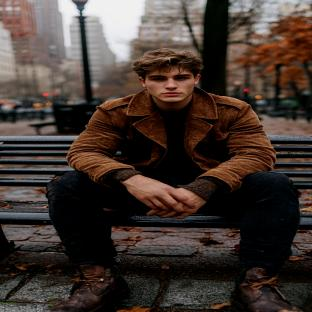Human: (47, 48, 301, 312)
